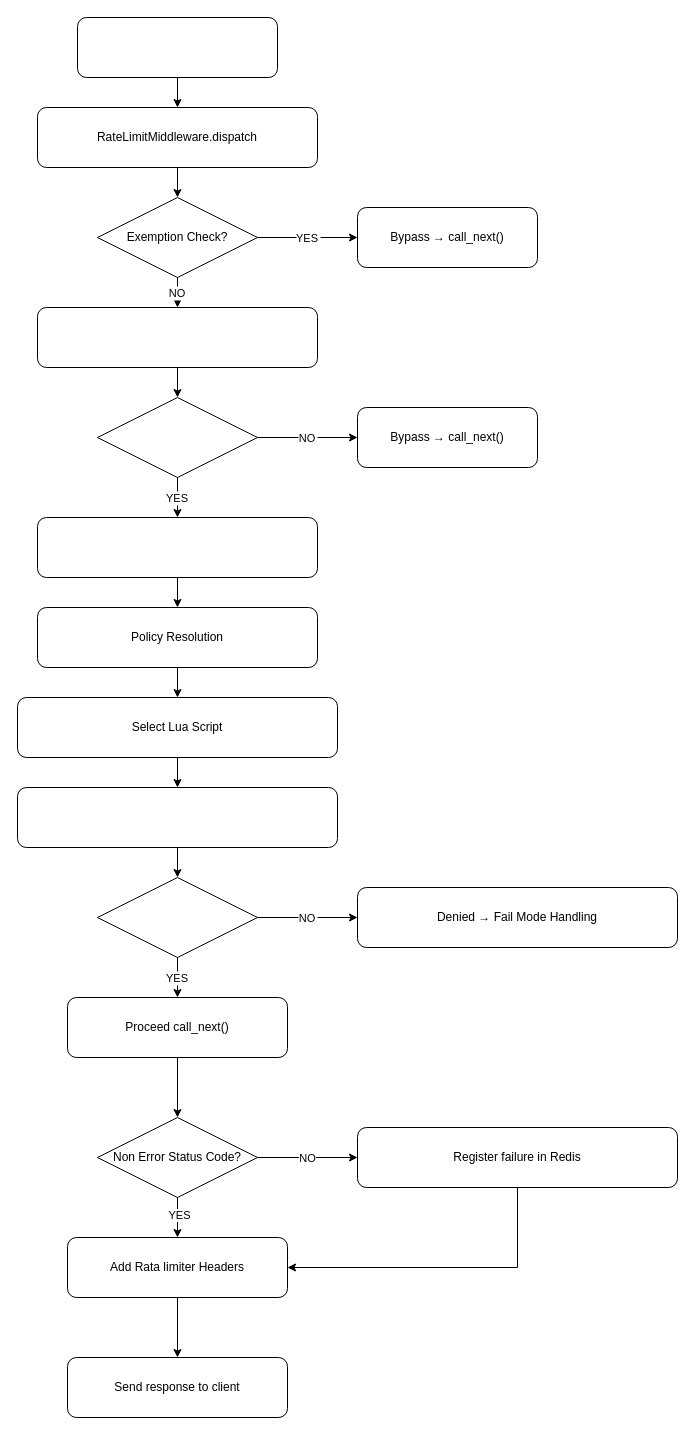
This 695x1435 diagram has some shape labels left out. The shapes that lost their labels are listed below. From the top down, each one's box as (x1, y1, x2, y2) in pixels, then its label:
(76, 16, 278, 78): Incoming Request
(36, 306, 318, 368): Resolve Route Pattern
(96, 396, 258, 478): Route Registered?
(36, 516, 318, 578): Extract Identity (JWT → IP)
(16, 786, 338, 848): Redis EVALSHA Execution
(96, 876, 258, 958): Allowed?
